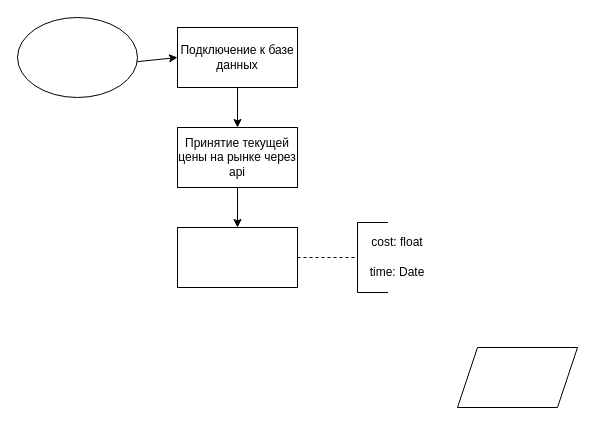
Some shapes in this 595 by 425 pixel diagram are drawn without their labels. Here are the shapes that lost their labels. From the top down, the centre of each, then its label:
At (77,57): "Старт программы".
At (237,257): "Запись в бд".
